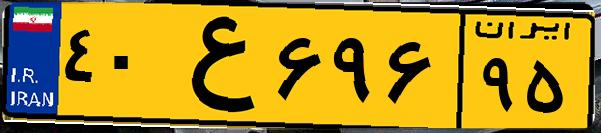0: (110, 28, 158, 98)
4: (57, 26, 110, 100)
5: (525, 38, 570, 115)
6: (270, 28, 330, 110), (385, 28, 445, 110)
9: (330, 28, 385, 110), (475, 38, 525, 113)
ع: (158, 12, 270, 120)
